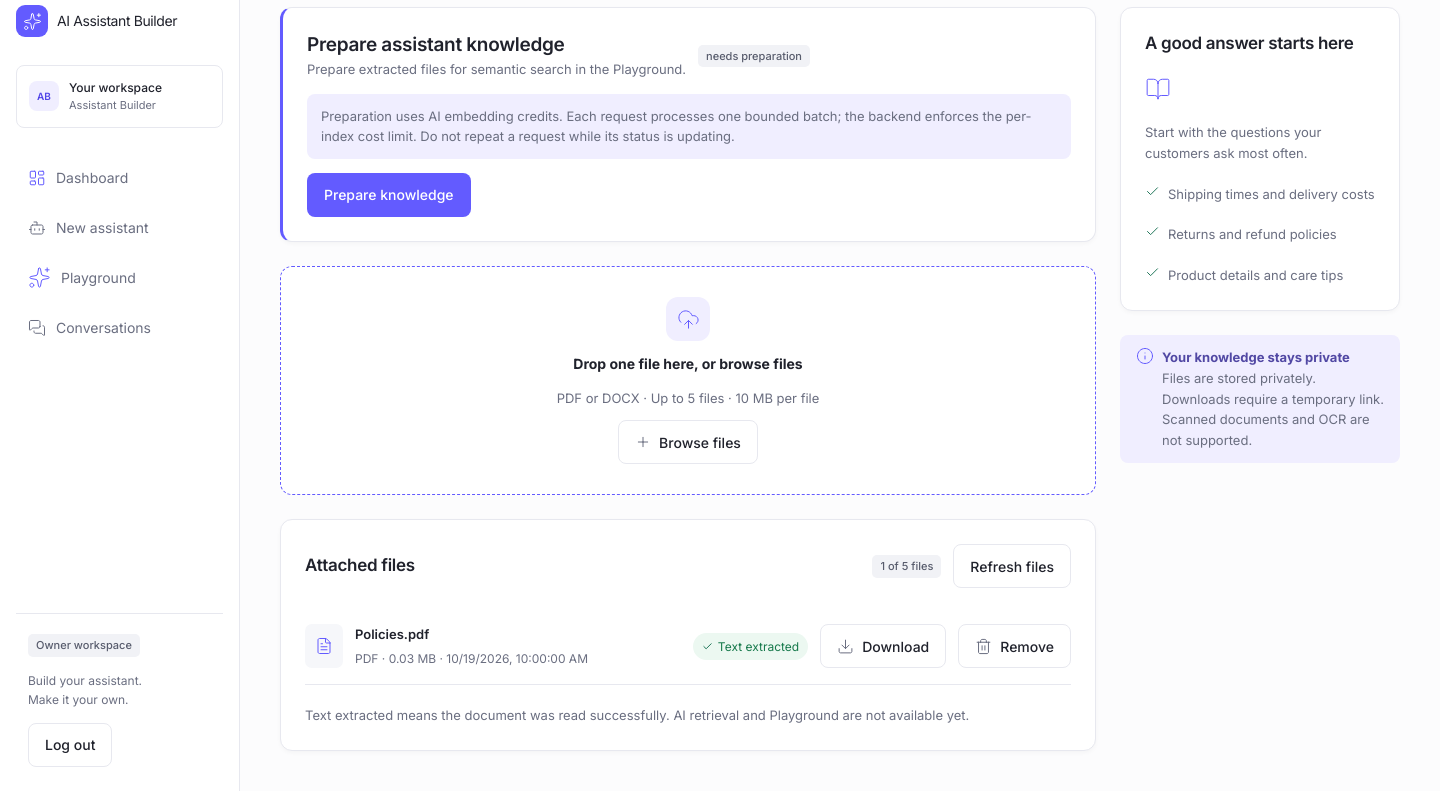
Test: knowledge UX › requires confirmation, handles DELETE 204, and frees a slot for replacement
The width and height of the screenshot is (1440, 791).
(page scrolled)
Expected: the text "Text extracted" is shown, [693,633,808,660]
Click the button with aria-label "Remove Policies.pdf": (1015, 646) [958,624,1071,668]
(page scrolled)
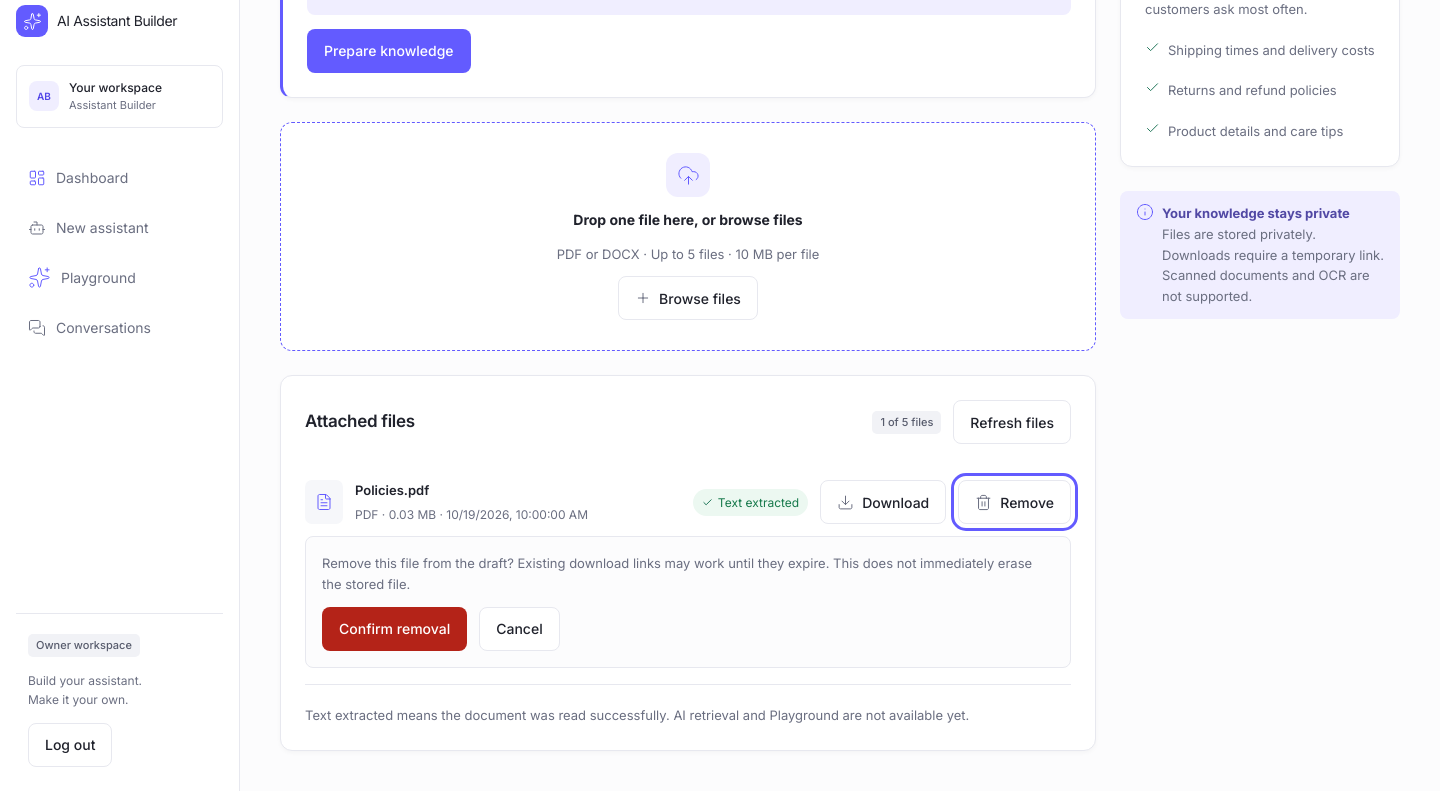
Click the button "Cancel": (519, 629) [479,607,560,651]
(page scrolled)
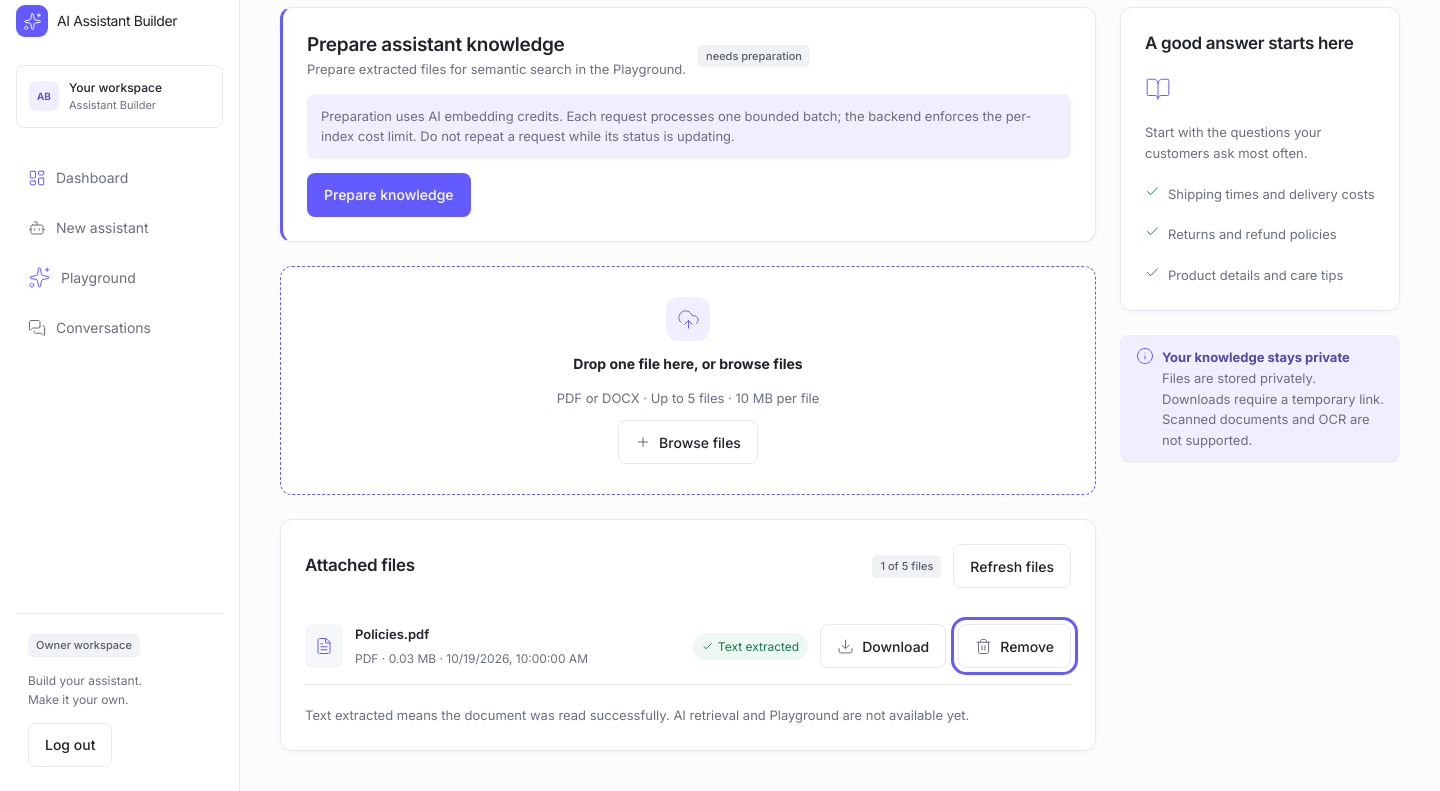
Click the button with aria-label "Remove Policies.pdf": (1015, 646) [958,624,1071,668]
(page scrolled)
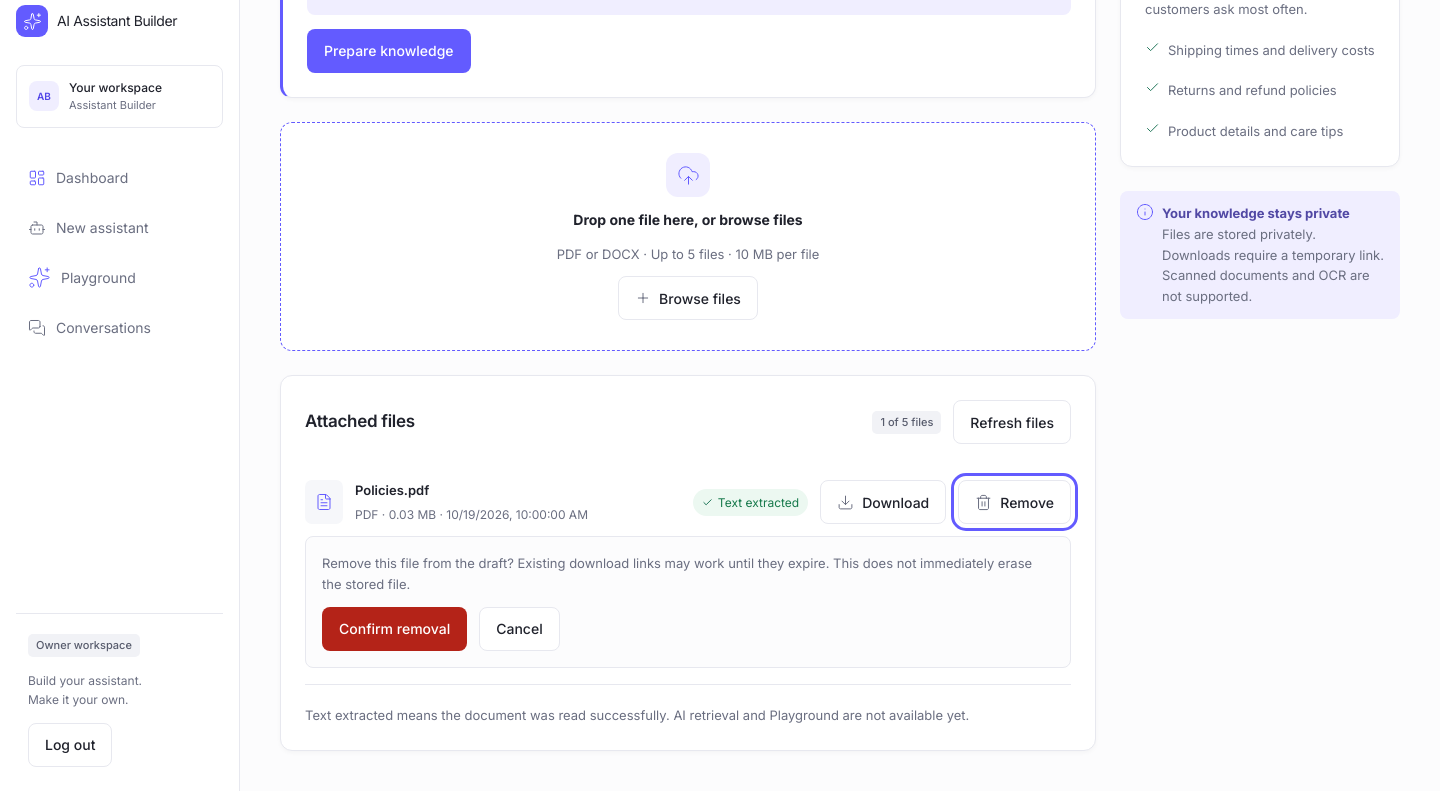
Click the button "Confirm removal": (395, 629) [322,607,467,651]
(page scrolled)
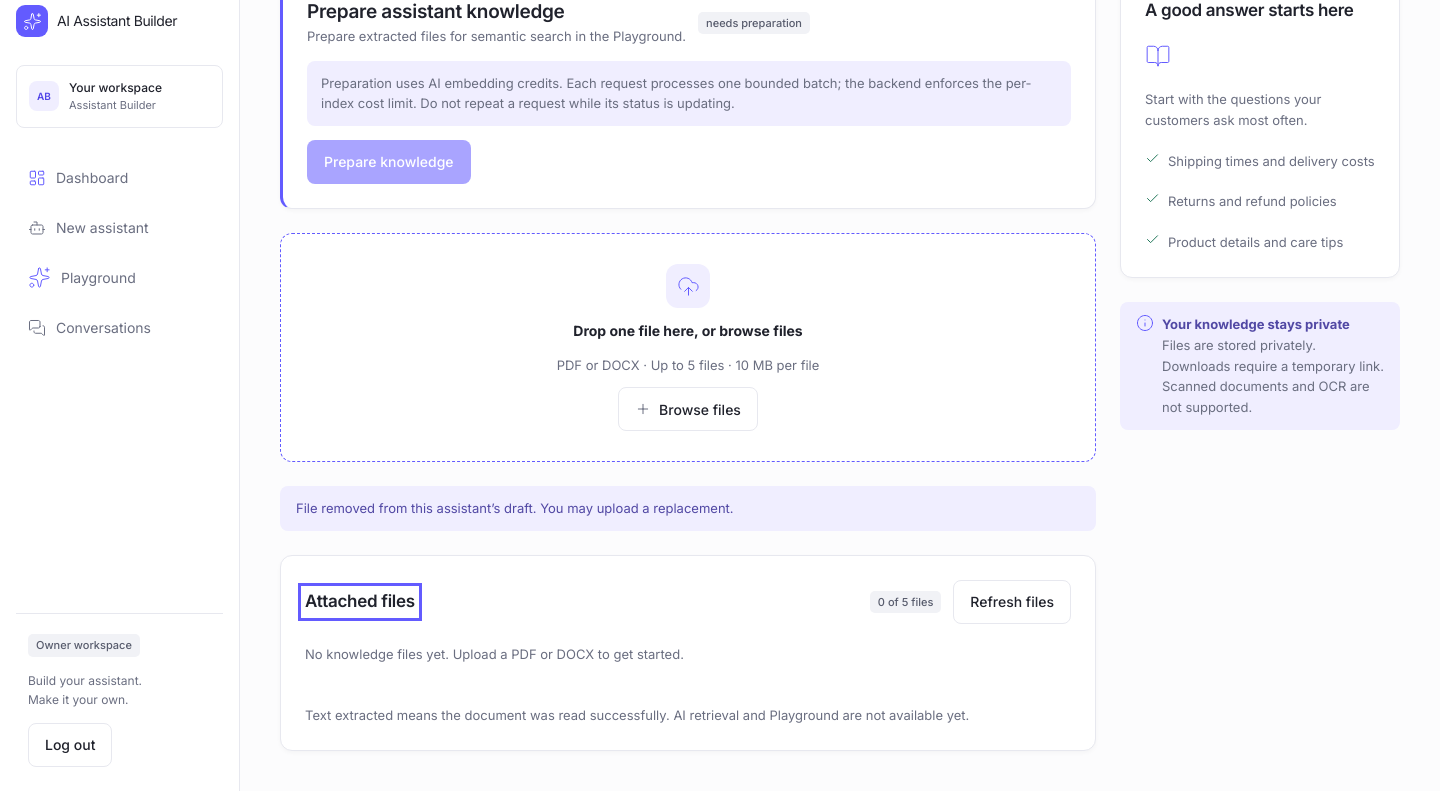
Expected: the button "Browse files" is enabled, [618,387,758,431]
Result: the text "No knowledge files yet. Upload a PDF or DOCX to get started." is shown at [305,646,684,662]
